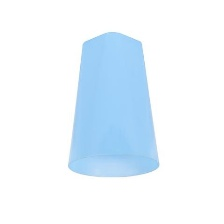glass: (65, 22, 164, 184)
